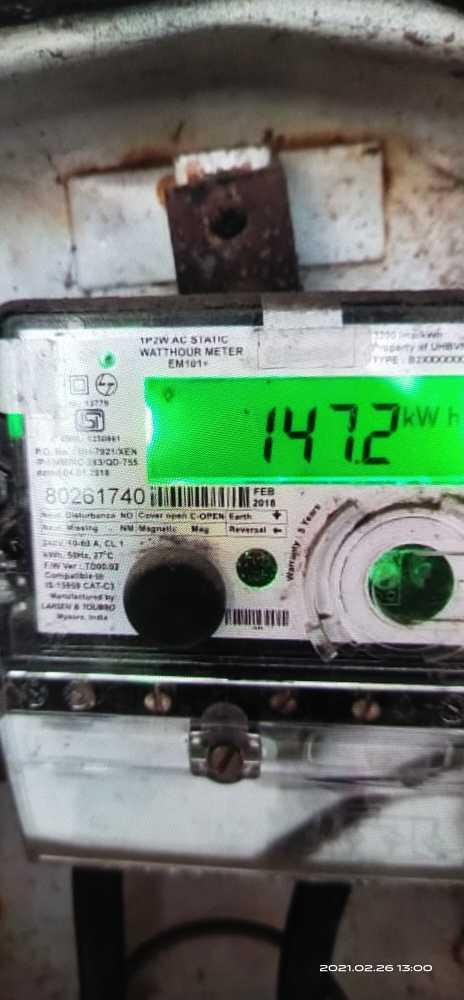.: (401, 404, 463, 433)
0: (351, 456, 362, 468)
2: (260, 403, 279, 465)
3: (363, 403, 403, 466)
5: (282, 405, 320, 468)
8: (326, 401, 359, 463)
